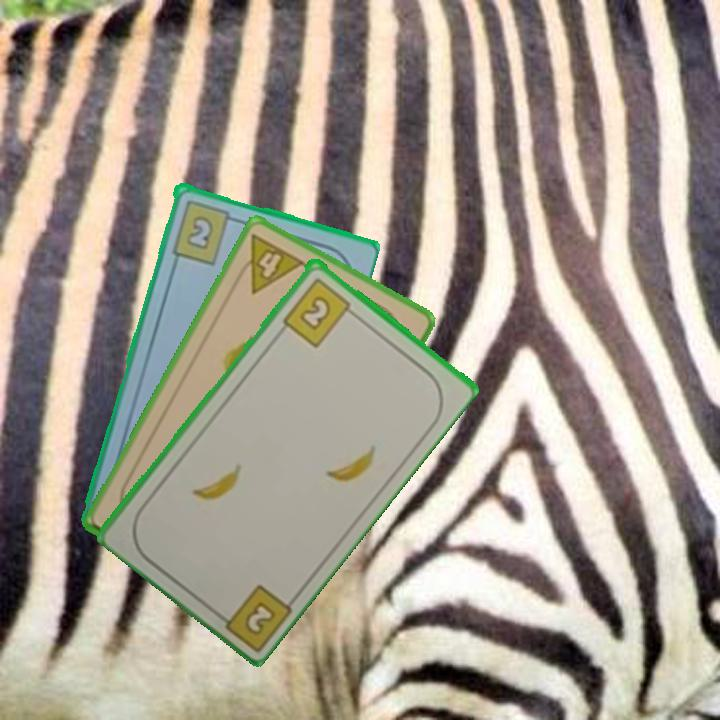2b: (278, 273, 359, 350), (209, 580, 295, 651), (168, 196, 241, 267)
4p: (230, 230, 308, 297)
